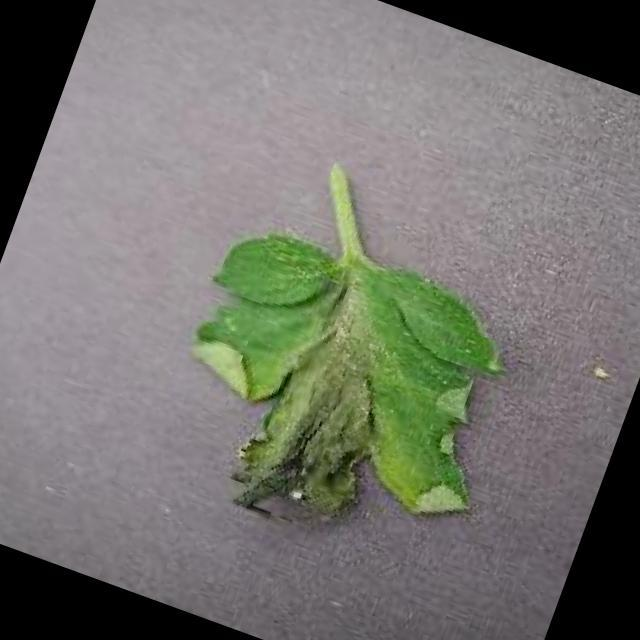Tomato late blight leaf: (129, 196, 539, 586)
